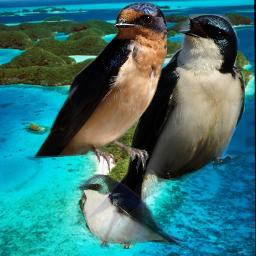Swallow: (87, 14, 245, 249), (33, 1, 167, 175), (76, 173, 187, 249)
